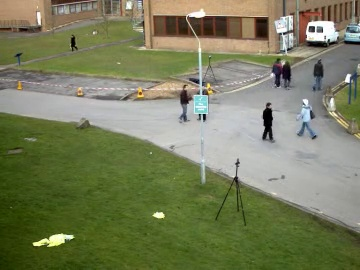person: (178, 84, 194, 122), (179, 83, 194, 123), (178, 84, 193, 122)
